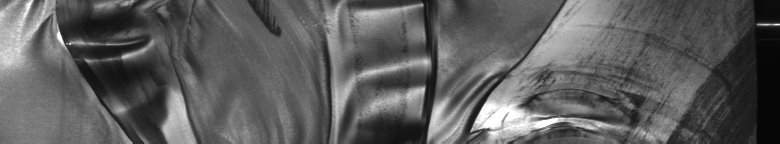ke: (24, 4, 710, 136)
